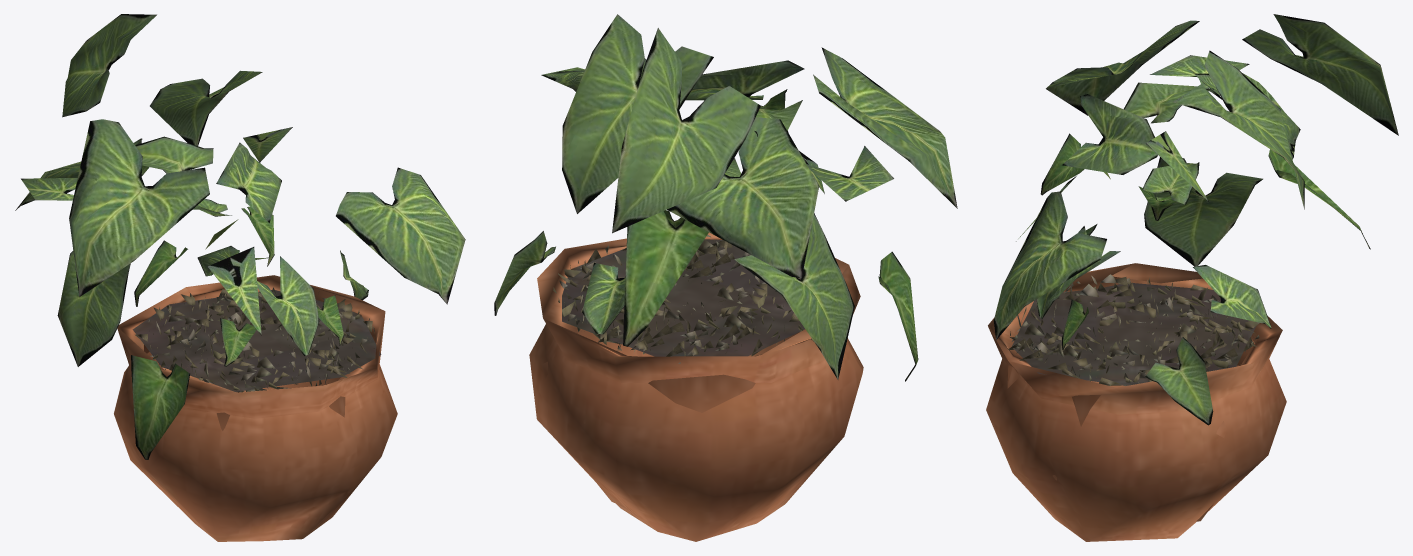
File: potted_plant_02_c.glb
The picture shows the model from 3 angles, left to right: view 1: azimuth 30°, elevation 25°; view 2: azimuth 150°, elevation 25°; view 3: azimuth 270°, elevation 25°; orthographic projection. The views are drawn at different scales.
Visible parts, largest first — view 1: potted_plant_02 (×2); view 2: potted_plant_02 (×2); view 3: potted_plant_02 (×2).
Boxes of the visible parts, <box> form: potted_plant_02 (×2): <box>15,14,465,541</box>; potted_plant_02 (×2): <box>494,14,957,541</box>; potted_plant_02 (×2): <box>986,14,1398,541</box>.
Bounding box in the file's own units: 0.6807 × 0.8395 × 0.6481.
2 materials, 2 textured.
